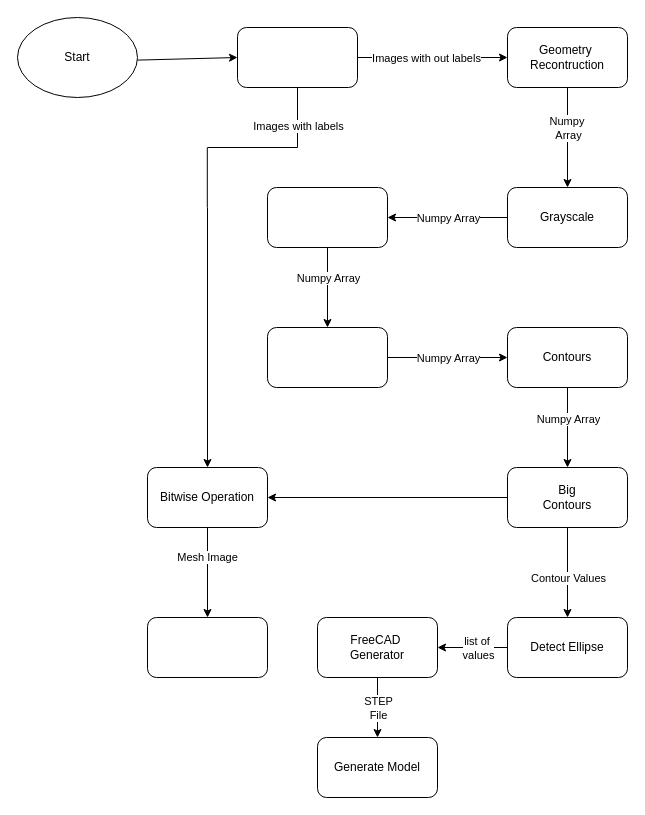
Some shapes in this 645 by 815 pixel diagram are drawn without their labels. Here are the shapes that lost their labels. From the top down, the centre of each, then its label:
At pixel 297 57: "YoloV5".
At pixel 327 217: "Guassian Blur".
At pixel 327 357: "Threshold".
At pixel 207 647: "Contour Image".
